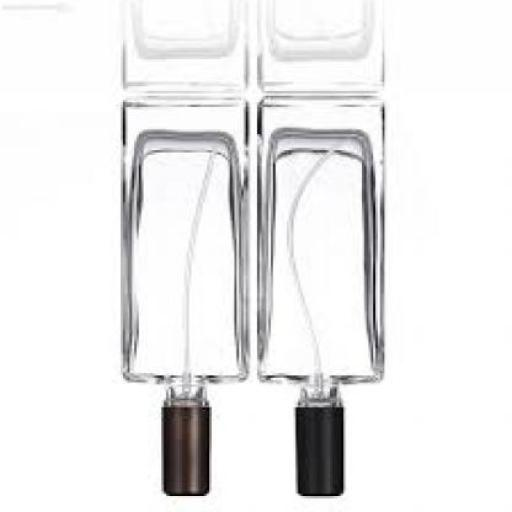glass: (122, 102, 250, 408), (262, 102, 384, 408)
plastic: (296, 407, 348, 501), (166, 407, 214, 501)
